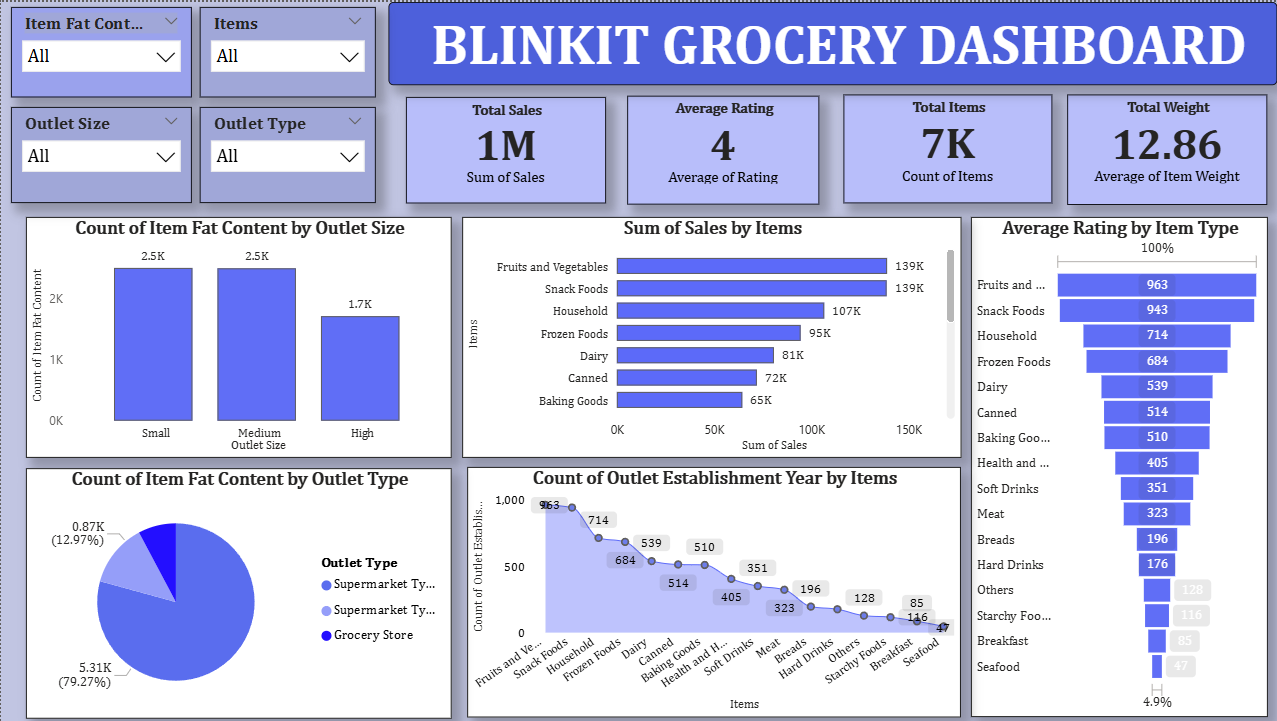

The dashboard page shown, as its layout file describes it:
{"tool":"powerbi","page":{"name":"Page 1","canvas":[1280,720],"ordinal":0},"visuals":[{"type":"card","title":"Total Sales","fields":{"Values":["Sum(BlinkIT Grocery Data.Sales)"]},"box":[404.4,94.4,200,106.7],"z":0},{"type":"card","title":"Average Rating","fields":{"Values":["Avg(BlinkIT Grocery Data.Rating)"]},"box":[626.7,93.3,192.2,108.9],"z":1000},{"type":"card","title":"Total Items","fields":{"Values":["CountNonNull(BlinkIT Grocery Data.Item Type)"]},"box":[842.5,92.5,208.8,108.8],"z":2000},{"type":"card","title":"Total Weight","fields":{"Values":["Avg(BlinkIT Grocery Data.Item Weight)"]},"box":[1066.7,92.2,200,110],"z":3000},{"type":"funnel","title":"Average Rating by Item Type","fields":{"Category":["BlinkIT Grocery Data.Item Type"],"Y":["CountNonNull(BlinkIT Grocery Data.Rating)"]},"box":[970,215.6,296.7,500],"z":4000},{"type":"columnChart","fields":{"Y":["CountNonNull(BlinkIT Grocery Data.Item Fat Content)"],"Category":["BlinkIT Grocery Data.Outlet Size"]},"box":[25.6,215.6,425.6,241.1],"z":5000},{"type":"clusteredBarChart","fields":{"Category":["BlinkIT Grocery Data.Item Type"],"Y":["Sum(BlinkIT Grocery Data.Sales)"]},"box":[461.1,215.6,498.9,241.1],"z":6000},{"type":"areaChart","fields":{"Category":["BlinkIT Grocery Data.Item Type"],"Y":["CountNonNull(BlinkIT Grocery Data.Outlet Establishment Year)"]},"box":[466.7,465.6,493.3,250],"z":7000},{"type":"pieChart","fields":{"Y":["CountNonNull(BlinkIT Grocery Data.Item Fat Content)"],"Category":["BlinkIT Grocery Data.Outlet Type"]},"box":[25.6,465.9,425.6,250],"z":8000},{"type":"textbox","box":[387.8,0,888.9,83.3],"z":9000},{"type":"slicer","fields":{"Values":["BlinkIT Grocery Data.Item Fat Content"]},"box":[9.8,4.9,180.5,90.2],"z":10000},{"type":"slicer","fields":{"Values":["BlinkIT Grocery Data.Outlet Size"]},"box":[9.8,104.9,180.5,96.3],"z":11000},{"type":"slicer","fields":{"Values":["BlinkIT Grocery Data.Item Type"]},"box":[198.8,4.9,175.6,90.2],"z":12000},{"type":"slicer","fields":{"Values":["BlinkIT Grocery Data.Outlet Type"]},"box":[198.8,104.9,175.6,96.3],"z":13000}]}

Visuals, with their boxes in screenshot pixels (x1, y1, x2, y2), scaled from the page's 1280x720 canvas onto the 1277x721 screenshot:
"Total Sales" card: Rect(403, 95, 603, 201)
"Average Rating" card: Rect(625, 93, 817, 202)
"Total Items" card: Rect(841, 93, 1049, 202)
"Total Weight" card: Rect(1064, 92, 1264, 202)
"Average Rating by Item Type" funnel: Rect(968, 216, 1264, 717)
columnChart - CountNonNull(BlinkIT Grocery Data.Item Fat Content) x BlinkIT Grocery Data.Outlet Size: Rect(26, 216, 450, 457)
clusteredBarChart - BlinkIT Grocery Data.Item Type x Sum(BlinkIT Grocery Data.Sales): Rect(460, 216, 958, 457)
areaChart - BlinkIT Grocery Data.Item Type x CountNonNull(BlinkIT Grocery Data.Outlet Establishment Year): Rect(466, 466, 958, 717)
pieChart - CountNonNull(BlinkIT Grocery Data.Item Fat Content) x BlinkIT Grocery Data.Outlet Type: Rect(26, 467, 450, 717)
textbox: Rect(387, 0, 1274, 83)
slicer - BlinkIT Grocery Data.Item Fat Content: Rect(10, 5, 190, 95)
slicer - BlinkIT Grocery Data.Outlet Size: Rect(10, 105, 190, 201)
slicer - BlinkIT Grocery Data.Item Type: Rect(198, 5, 374, 95)
slicer - BlinkIT Grocery Data.Outlet Type: Rect(198, 105, 374, 201)
